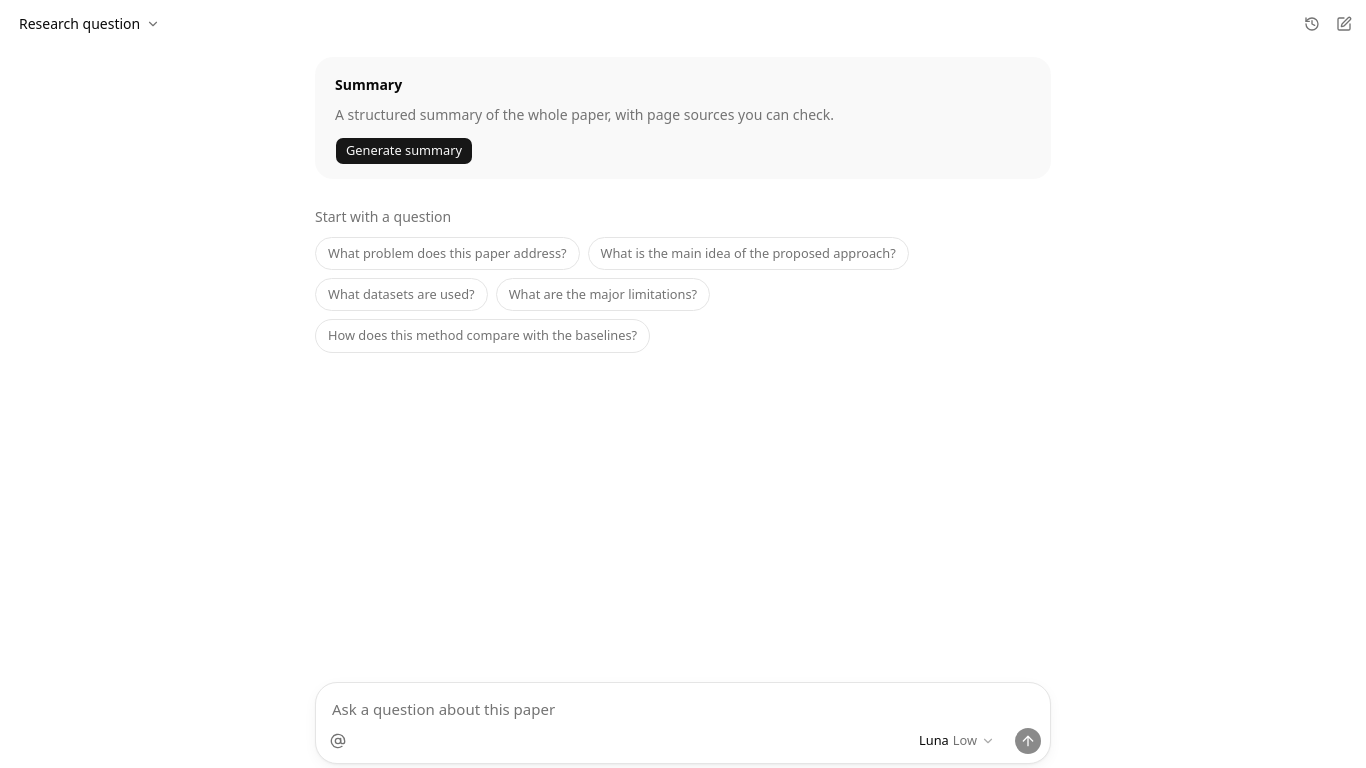
it: Given several chats, Then the open one is marked and an earlier PDF keeps its badge
Click the button named "Chat history" at (1312, 24), box [1298, 10, 1326, 38]
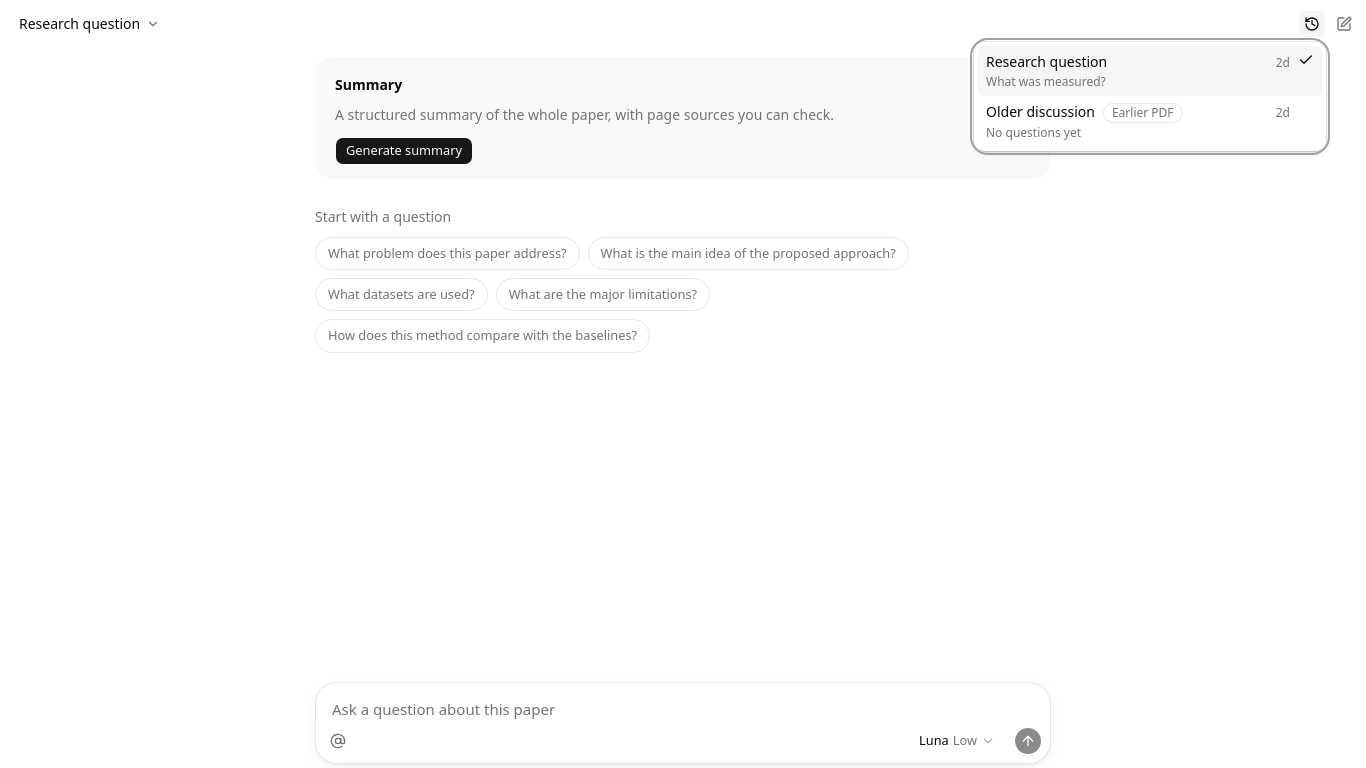
Now the option "Older discussion Earlier PDF 2d No questions yet" is shown, box [978, 96, 1322, 147]
Now the option "Research question 2d What was measured?" is shown, box [978, 46, 1322, 96]
